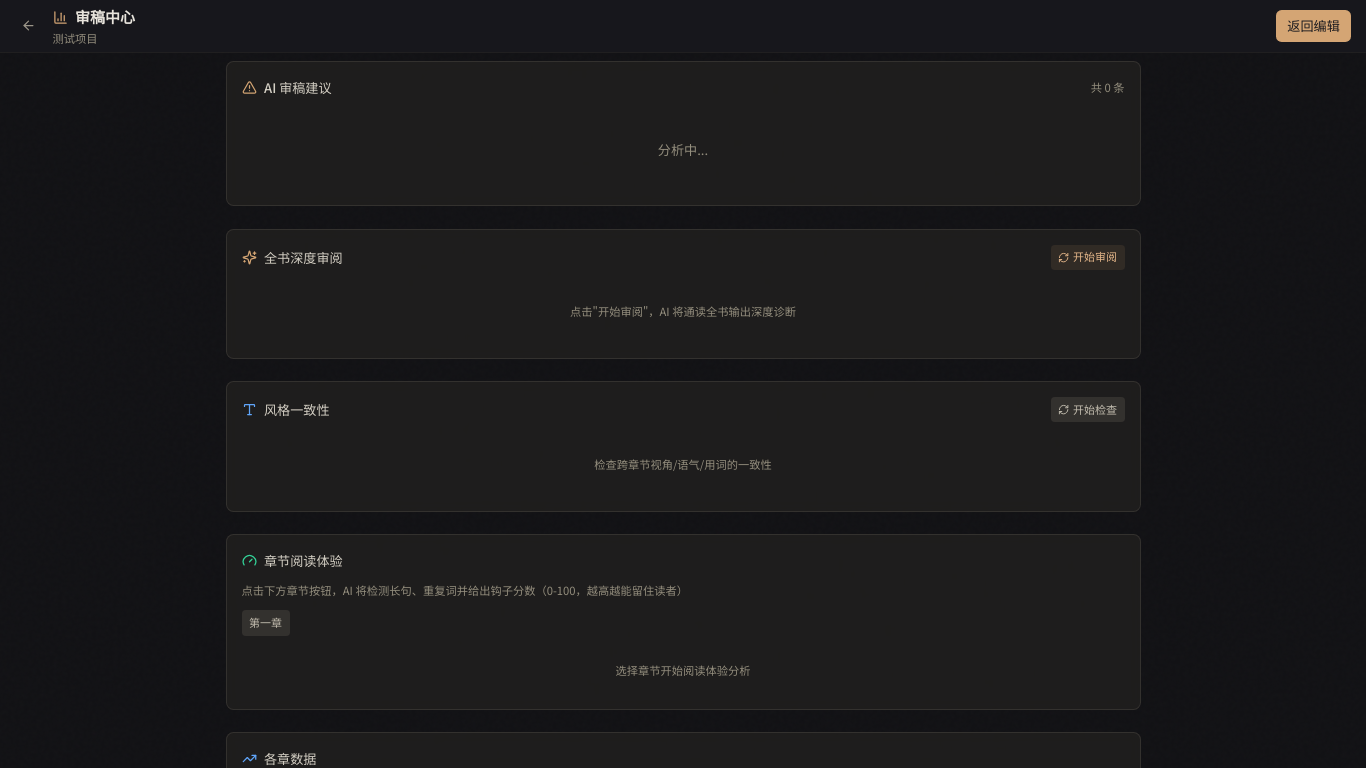
Test case: ReviewPage › 风格检查 issues 为空时显示"✨ 风格一致性良好"
The image size is (1366, 768).
(page scrolled)
Click the button "开始检查". click: (1088, 410)
box: [1050,397,1124,422]
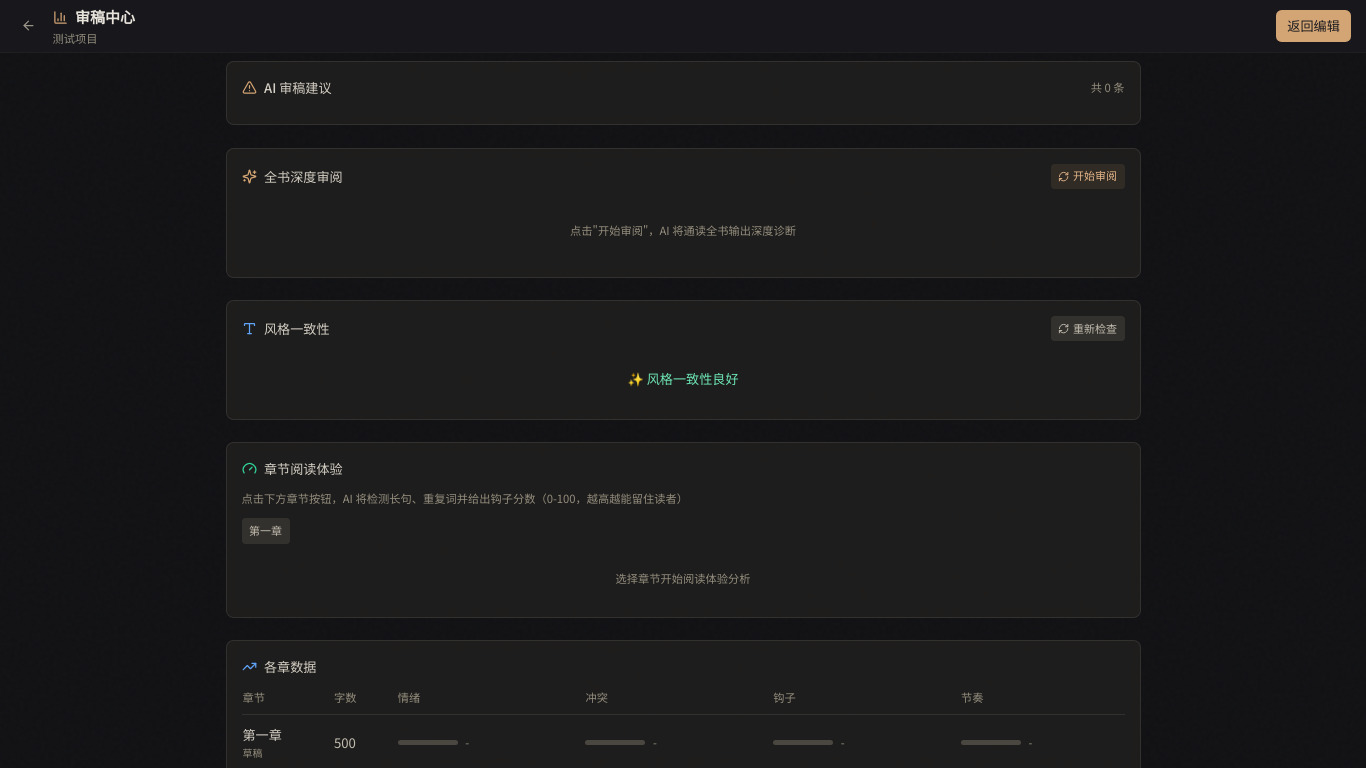
Now the text "✨ 风格一致性良好" is shown, box [628,369,739,388]
